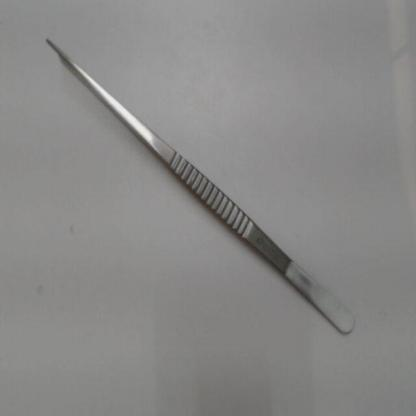DeBakey Dissector: (23, 21, 375, 354)
